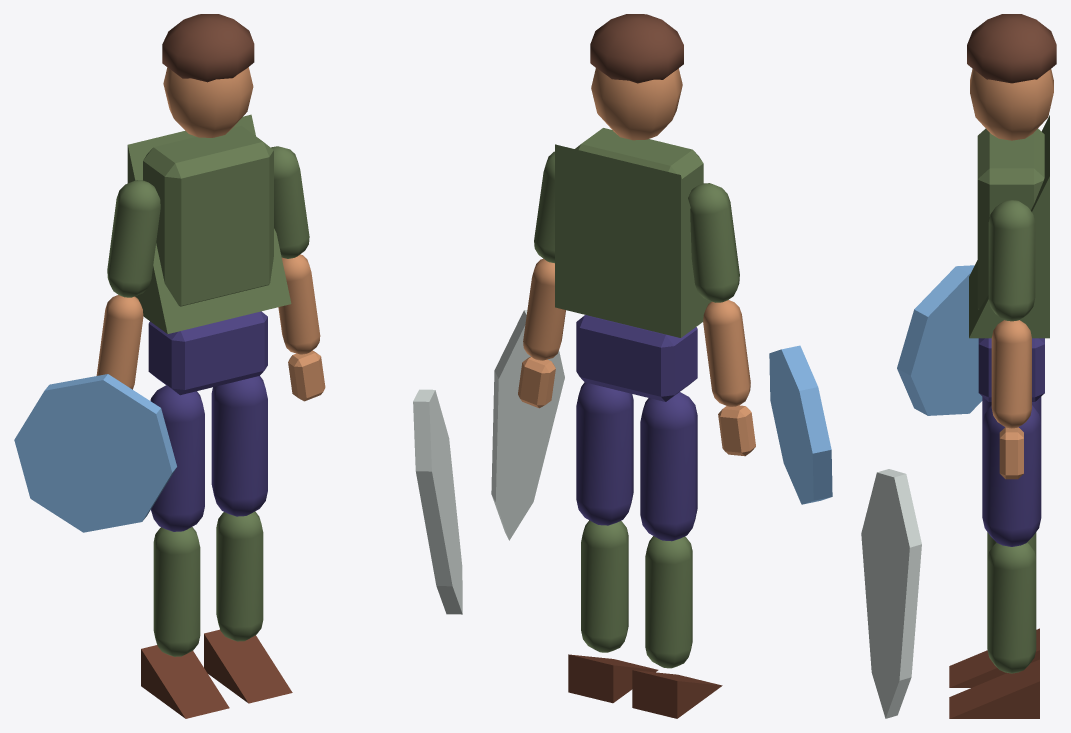
The model's file is adventurer.rustic.glb.
3 renders of one model, left to right at view 1: azimuth 30°, elevation 25°; view 2: azimuth 150°, elevation 25°; view 3: azimuth 270°, elevation 25°, orthographic.
Parts seen in each view (by area): view 1: accessory.off-hand, torso, pelvis, thigh.right, accessory.main-hand, tunic, shin.right, shin.left, thigh.left, hair, upper-arm.left, head (+6 smaller); view 2: tunic, accessory.main-hand, pelvis, thigh.left, thigh.right, accessory.off-hand, shin.left, shin.right, hair, upper-arm.left, head, forearm.left (+7 smaller); view 3: accessory.main-hand, accessory.off-hand, shin.right, thigh.right, torso, upper-arm.right, hair, head, tunic, forearm.right, foot.right, pelvis (+2 smaller).
Boxes of the visible parts, left/top/right/bottom form: accessory.off-hand: left=14, top=374, right=177, bottom=532; torso: left=143, top=126, right=273, bottom=306; pelvis: left=148, top=311, right=267, bottom=395; thigh.right: left=211, top=376, right=267, bottom=516; accessory.main-hand: left=413, top=389, right=462, bottom=614; tunic: left=127, top=114, right=291, bottom=333; shin.right: left=216, top=511, right=263, bottom=641; shin.left: left=153, top=527, right=200, bottom=656; thigh.left: left=150, top=385, right=204, bottom=531; hair: left=162, top=14, right=254, bottom=82; upper-arm.left: left=107, top=180, right=160, bottom=297; head: left=163, top=67, right=253, bottom=137; tunic: left=555, top=144, right=711, bottom=337; accessory.main-hand: left=491, top=310, right=564, bottom=540; pelvis: left=576, top=315, right=697, bottom=401; thigh.left: left=640, top=392, right=697, bottom=541; thigh.right: left=576, top=382, right=633, bottom=525; accessory.off-hand: left=769, top=345, right=832, bottom=504; shin.left: left=645, top=536, right=692, bottom=668; shin.right: left=581, top=520, right=628, bottom=652; hair: left=590, top=14, right=683, bottom=83; upper-arm.left: left=688, top=183, right=739, bottom=302; head: left=591, top=68, right=682, bottom=140; forearm.left: left=703, top=300, right=750, bottom=406; accessory.main-hand: left=861, top=469, right=921, bottom=718; accessory.off-hand: left=897, top=265, right=982, bottom=415; shin.right: left=987, top=542, right=1036, bottom=673; thigh.right: left=982, top=405, right=1041, bottom=546; torso: left=977, top=128, right=1044, bottom=309; upper-arm.right: left=988, top=200, right=1035, bottom=321; hair: left=967, top=14, right=1056, bottom=83; head: left=970, top=69, right=1053, bottom=140; tunic: left=969, top=115, right=1049, bottom=338; forearm.right: left=991, top=320, right=1031, bottom=428; foot.right: left=949, top=659, right=1039, bottom=718; pelvis: left=978, top=338, right=1044, bottom=401.
Bounding box in the file's own units: 1.87 × 3.03 × 0.7964.
